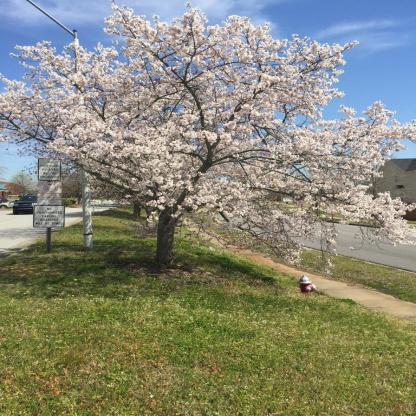Someiyoshino: (5, 9, 410, 249)
